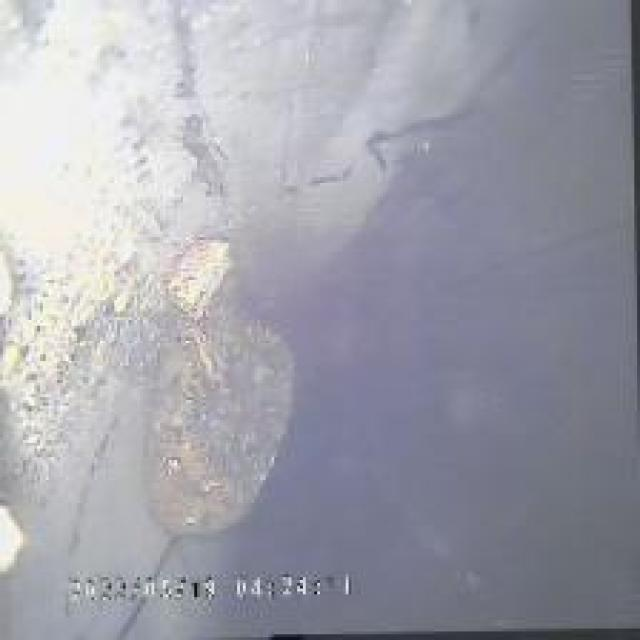stone: (140, 297, 291, 537)
